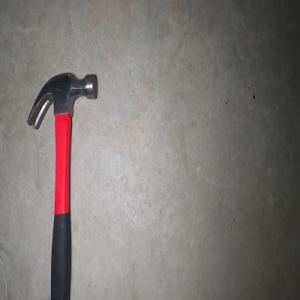Hammer: (25, 71, 98, 300)
